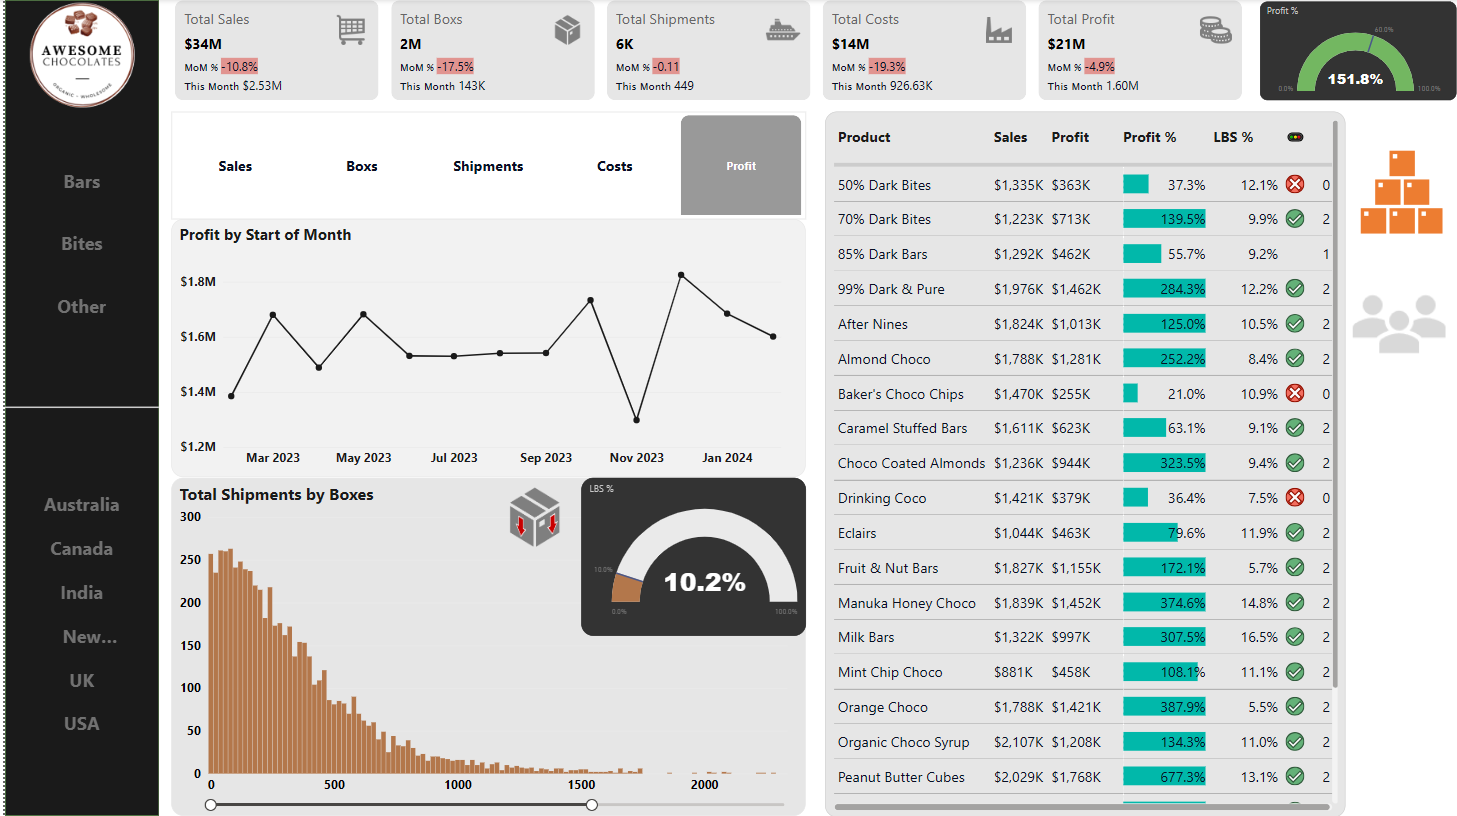

What the dashboard file says about the page in this screenshot:
{"tool":"powerbi","page":{"name":"Sales Report","canvas":[1920,1080],"ordinal":2},"visuals":[{"type":"shape","box":[0,1.8,203.6,1076.8],"z":0},{"type":"cardVisual","fields":{"Data":["_Measures.Total Sales","_Measures.Total Boxs","_Measures.Total Shipments","_Measures.Total Costs","_Measures.Total Profit"]},"box":[219,1.7,1420.7,132.8],"z":1000},{"type":"gauge","fields":{"Y":["_Measures.Profit %"]},"box":[1657,3.3,260.8,130.4],"z":2000},{"type":"image","box":[0,0,203.4,148.3],"z":3000},{"type":"lineChart","fields":{"Y":["_Measures.Total Profit"],"Category":["calendar.Start of Month"]},"box":[219.6,291.1,837.5,341.1],"z":4000},{"type":"advancedSlicerVisual","fields":{"Values":["Measure Selector.Measure Selector"]},"box":[219.6,148.2,837.5,142.9],"z":5000},{"type":"columnChart","title":"Total Shipments by Boxes","fields":{"Category":["shipments.Boxes (bins)"],"Y":["_Measures.Total Shipments"]},"box":[219.6,632.1,837.5,446.4],"z":6000},{"type":"gauge","fields":{"Y":["_Measures.LBS %"]},"box":[760.7,632.1,296.4,208.9],"z":7000},{"type":"image","box":[638.7,632.1,122.1,104],"z":8000},{"type":"tableEx","title":"Product Details","fields":{"Values":["products.Product","_Measures.Total Sales","_Measures.Total Profit","_Measures.Profit %","_Measures.LBS %","_Measures.Profit Target Indicator"]},"box":[1082.1,148.2,687.5,932.1],"z":10000},{"type":"image","title":"Product Icon","box":[1770,166.7,150,175],"z":12000},{"type":"advancedSlicerVisual","fields":{"Values":["products.Category"]},"box":[14.3,198.2,173.2,250],"z":13000},{"type":"advancedSlicerVisual","fields":{"Values":["locations.Geo"]},"box":[14.3,632.1,173.2,355.4],"z":14000},{"type":"shape","box":[0,516.7,203.3,45],"z":15000},{"type":"image","title":"People Dull","box":[1766.7,341.7,150,175],"z":16000}]}

Visuals, with their boxes on the page's 1920x1080 design canvas (x1, y1, x2, y2). These are canvas units, not pixel positions in the 1457x816 screenshot, which may show the page scaled, cropped or inside an application window:
shape: box=[0, 2, 204, 1079]
cardVisual - _Measures.Total Sales x _Measures.Total Boxs: box=[219, 2, 1640, 134]
gauge - _Measures.Profit %: box=[1657, 3, 1918, 134]
image: box=[0, 0, 203, 148]
lineChart - _Measures.Total Profit x calendar.Start of Month: box=[220, 291, 1057, 632]
advancedSlicerVisual - Measure Selector.Measure Selector: box=[220, 148, 1057, 291]
"Total Shipments by Boxes" columnChart: box=[220, 632, 1057, 1078]
gauge - _Measures.LBS %: box=[761, 632, 1057, 841]
image: box=[639, 632, 761, 736]
"Product Details" tableEx: box=[1082, 148, 1770, 1080]
"Product Icon" image: box=[1770, 167, 1920, 342]
advancedSlicerVisual - products.Category: box=[14, 198, 188, 448]
advancedSlicerVisual - locations.Geo: box=[14, 632, 188, 988]
shape: box=[0, 517, 203, 562]
"People Dull" image: box=[1767, 342, 1917, 517]
